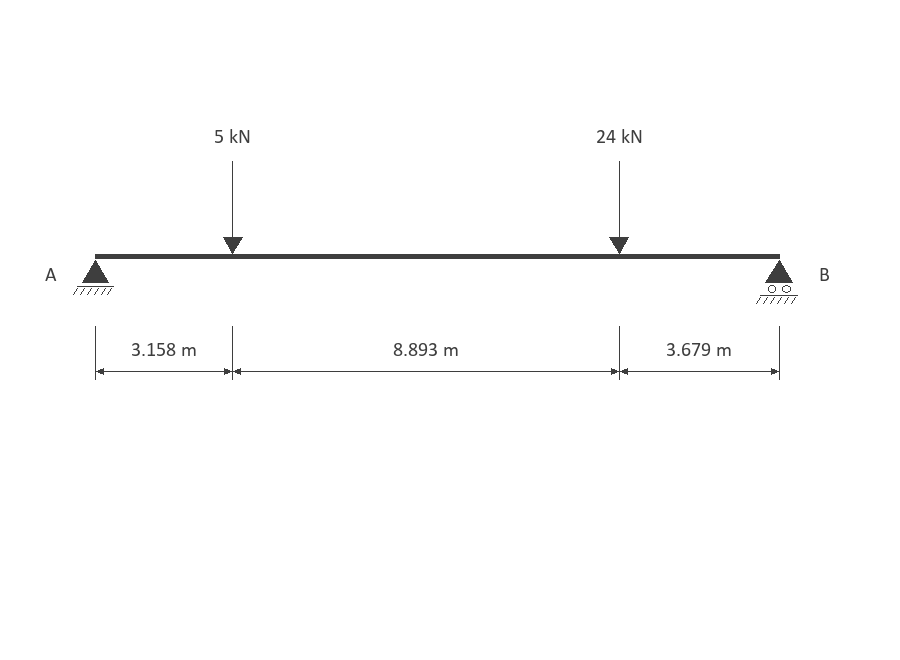pin_support: (73, 260, 114, 295)
point_load: (223, 161, 243, 254), (609, 161, 629, 254)
roller_support: (756, 260, 798, 304)
